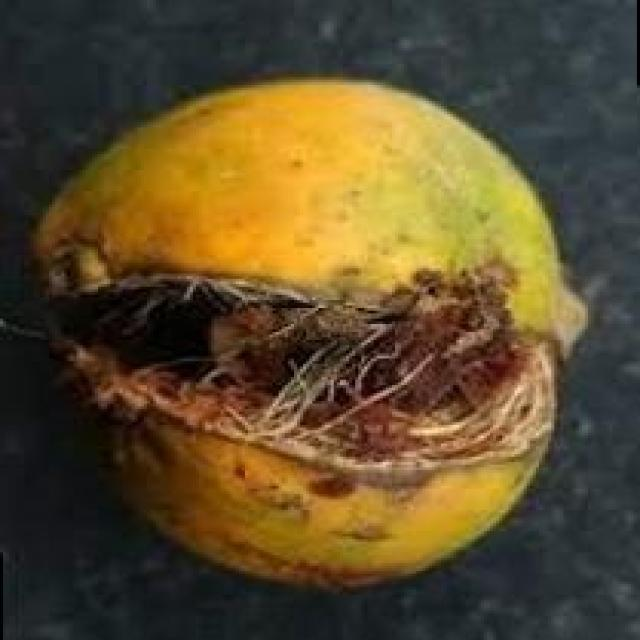damaged: (28, 77, 591, 595)
